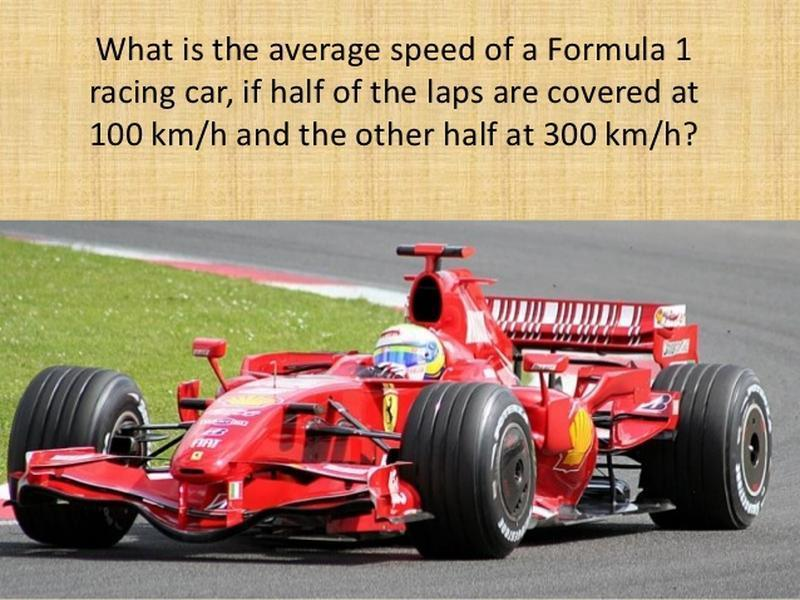f1: (18, 244, 788, 565)
